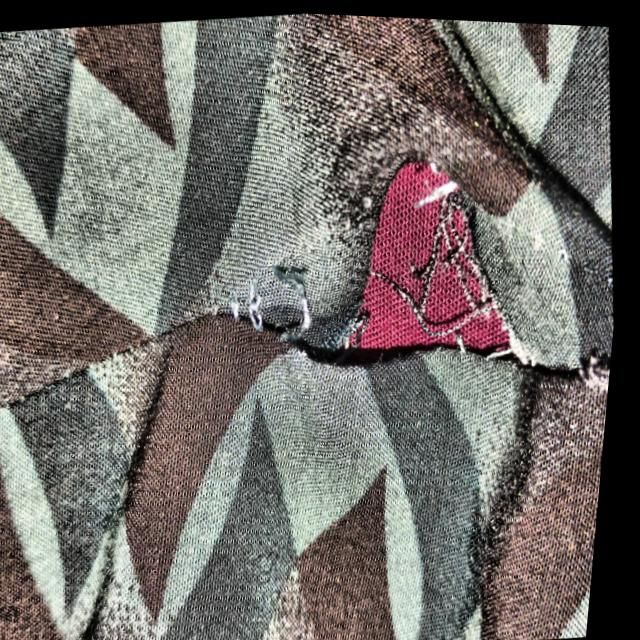seam: (159, 113, 633, 454)
